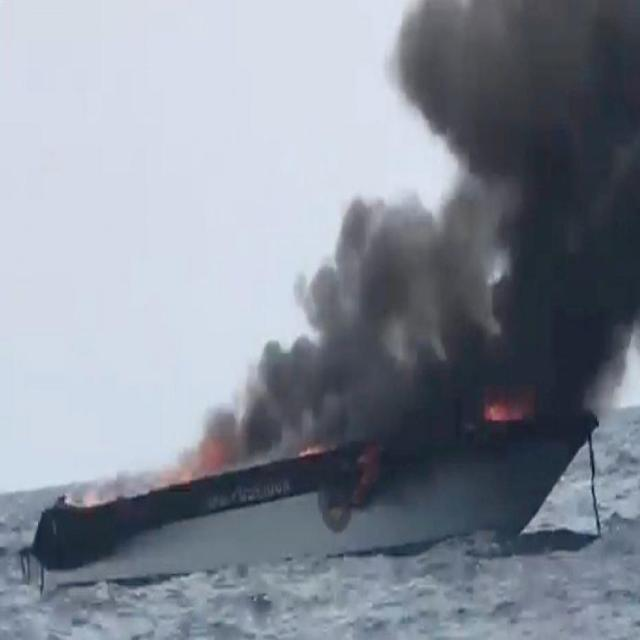Fire: (78, 443, 334, 516), (487, 395, 527, 428)
Smoke: (397, 0, 640, 387), (203, 194, 391, 434)
